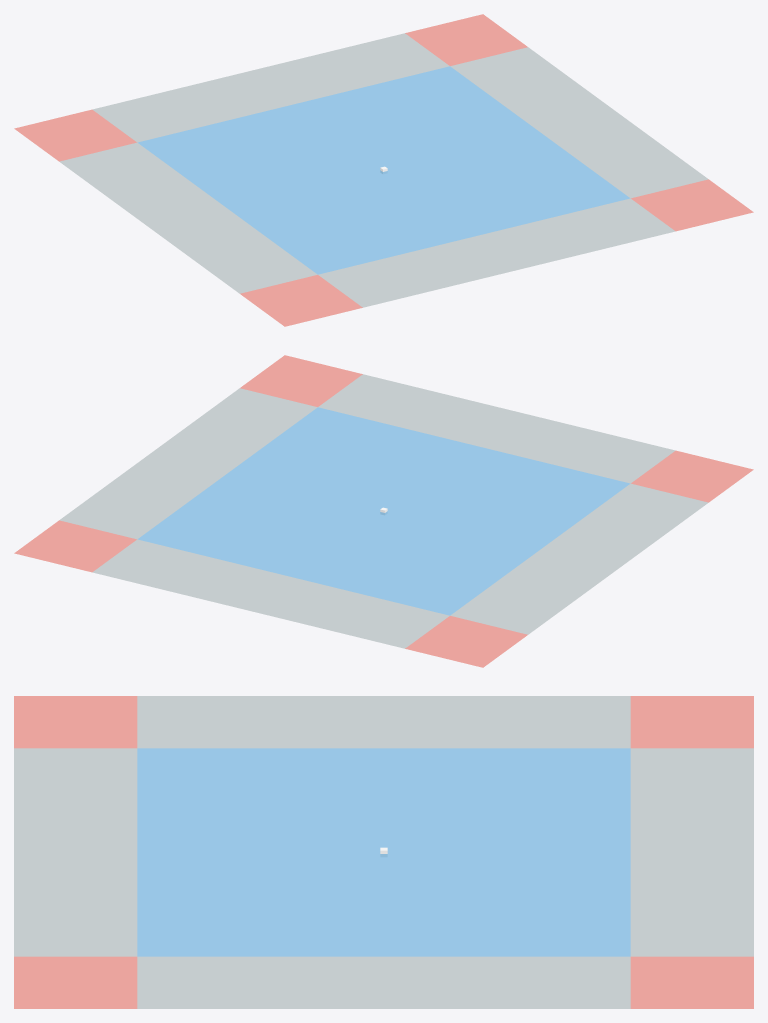
File: Bài 7.40.glb
The picture shows the model from 3 angles, top to bottom: view 1: azimuth 30°, elevation 25°; view 2: azimuth 150°, elevation 25°; view 3: azimuth 270°, elevation 25°; orthographic projection. The views are drawn at different scales.
Size of the model in its own units: 1 by 0.01 by 1.
